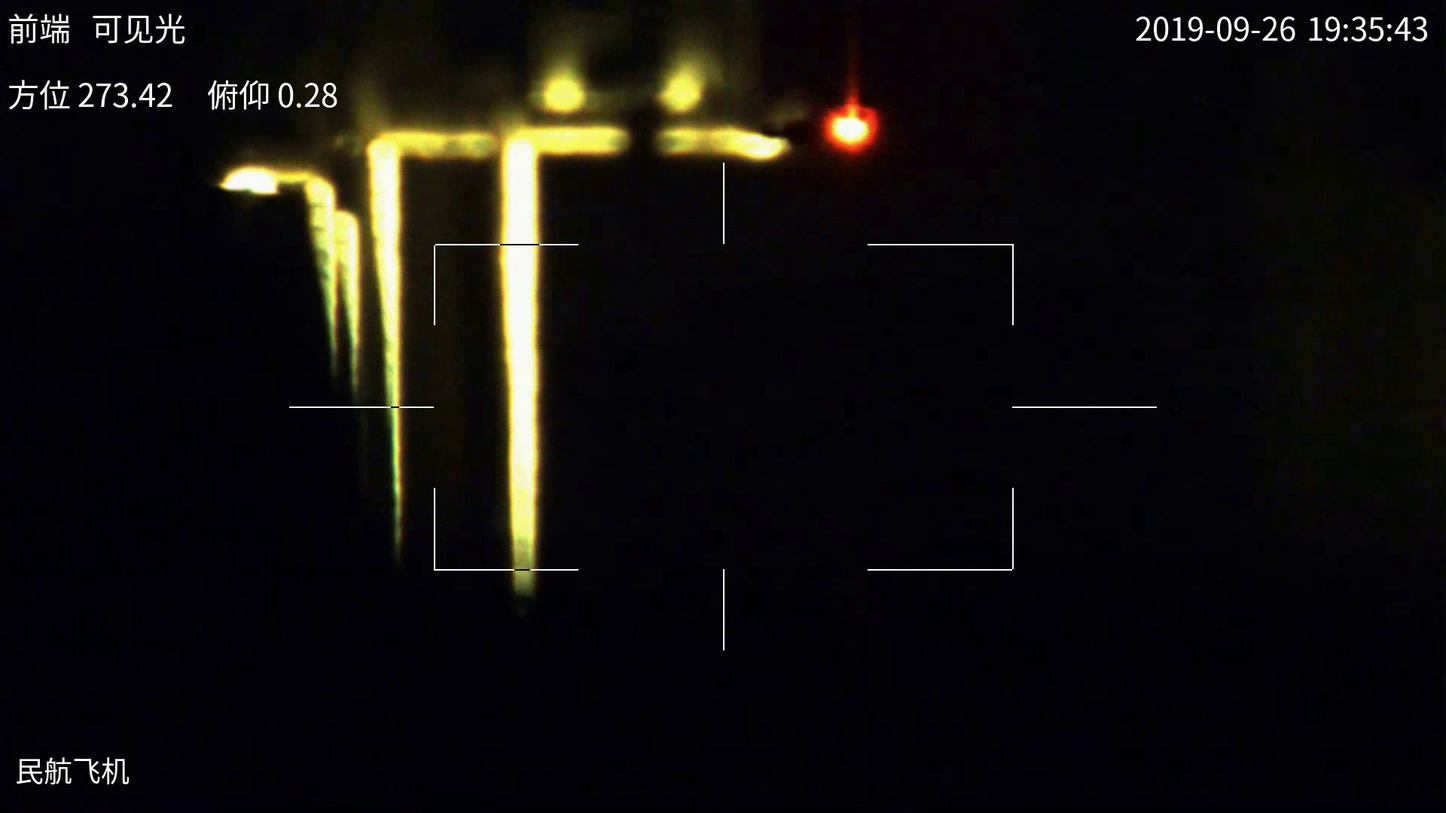drone: (827, 99, 874, 148)
